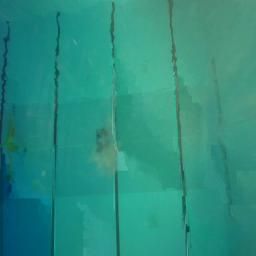Full: (96, 129, 112, 152)
